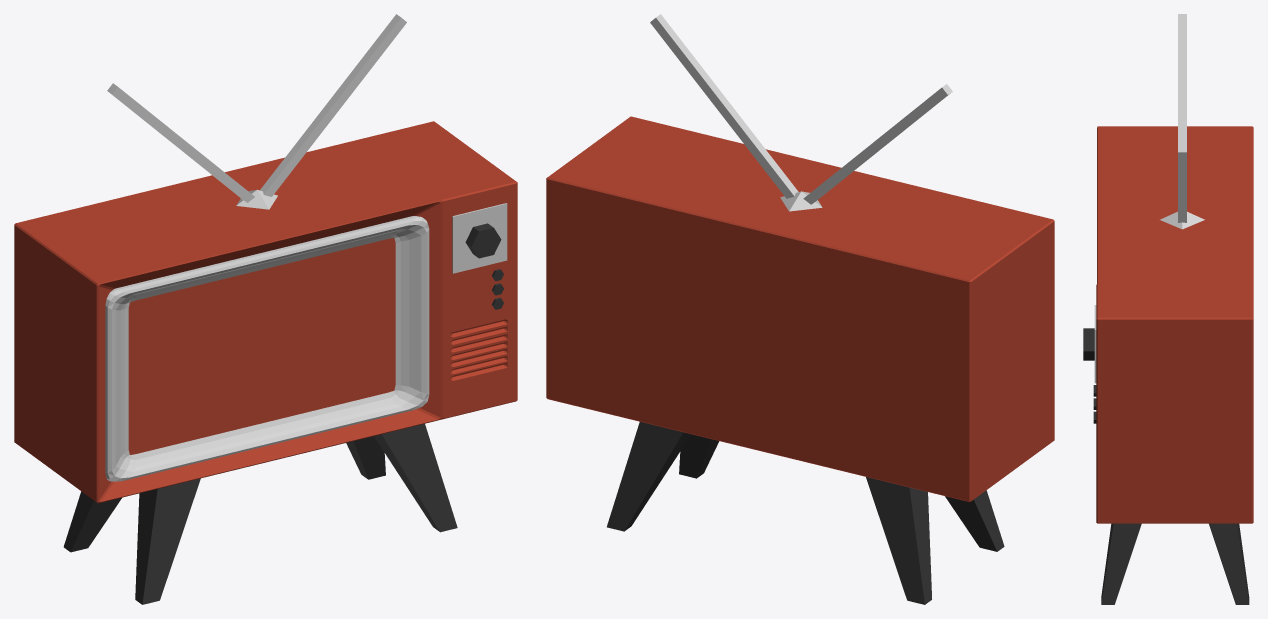
The picture shows the model from 3 angles, left to right: view 1: azimuth 30°, elevation 25°; view 2: azimuth 150°, elevation 25°; view 3: azimuth 270°, elevation 25°; orthographic projection. The views are drawn at different scales.
Parts seen in each view (by area): view 1: Cube_001, Cube, Cube_004, Cube_007, Cube_006, Cube_003, Cube_008, Cube_005, Cylinder; view 2: Cube_001, Cube_004, Cube_008, Cube_005, Cube_007, Cube_006; view 3: Cube_001, Cube_006, Cube_005, Cube_004, Cylinder, Cone.
Boxes of the visible parts, x1,y1,x2,y2 form: Cube_001: [14, 121, 517, 503]; Cube: [105, 216, 429, 481]; Cube_004: [107, 14, 406, 202]; Cube_007: [135, 478, 200, 604]; Cube_006: [374, 423, 457, 532]; Cube_003: [452, 203, 507, 273]; Cube_008: [63, 491, 121, 552]; Cube_005: [346, 436, 385, 479]; Cylinder: [465, 223, 501, 258]; Cube_001: [546, 116, 1054, 501]; Cube_004: [650, 14, 952, 204]; Cube_008: [866, 477, 931, 604]; Cube_005: [607, 422, 691, 531]; Cube_007: [945, 490, 1004, 551]; Cube_006: [679, 434, 719, 478]; Cube_001: [1096, 126, 1253, 523]; Cube_006: [1101, 523, 1141, 604]; Cube_005: [1209, 523, 1249, 604]; Cube_004: [1178, 14, 1186, 222]; Cylinder: [1083, 328, 1094, 360]; Cone: [1160, 211, 1204, 229].
Bounding box in the file's own units: 1.16 × 0.435 × 1.28.
